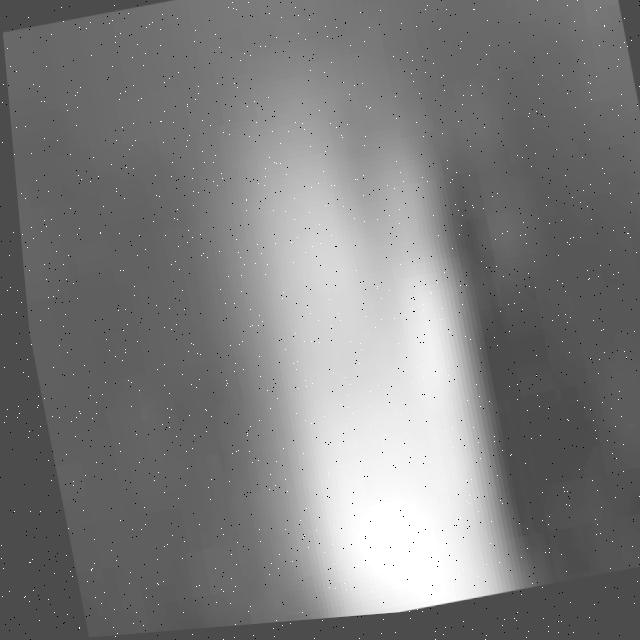person: (204, 68, 548, 628)
